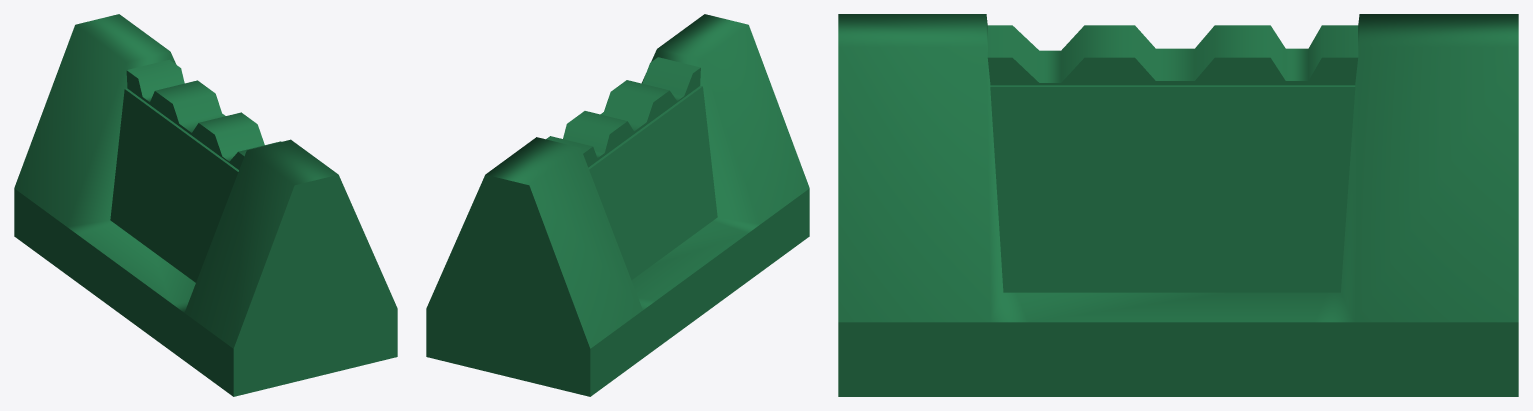
The model's file is square_roadblock.fbx.
3 views of the same model, side by side, from view 1: azimuth 30°, elevation 25°; view 2: azimuth 150°, elevation 25°; view 3: azimuth 270°, elevation 25° (orthographic). The views are drawn at different scales.
Visible parts, largest first — view 1: pCube16; view 2: pCube16; view 3: pCube16.
Boxes of the visible parts, x1,y1,x2,y2 form: pCube16: (14,14,397,396); pCube16: (426,14,809,396); pCube16: (838,14,1518,396).
Bounding box in the file's own units: 0.5815 × 0.666 × 1.35.
